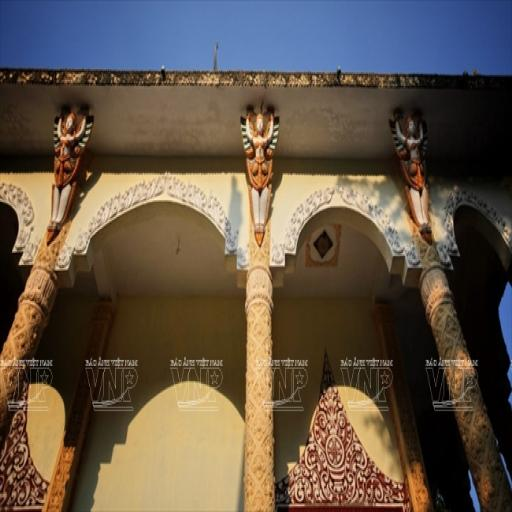than: (392, 98, 438, 236), (242, 98, 280, 242), (51, 101, 86, 238)
